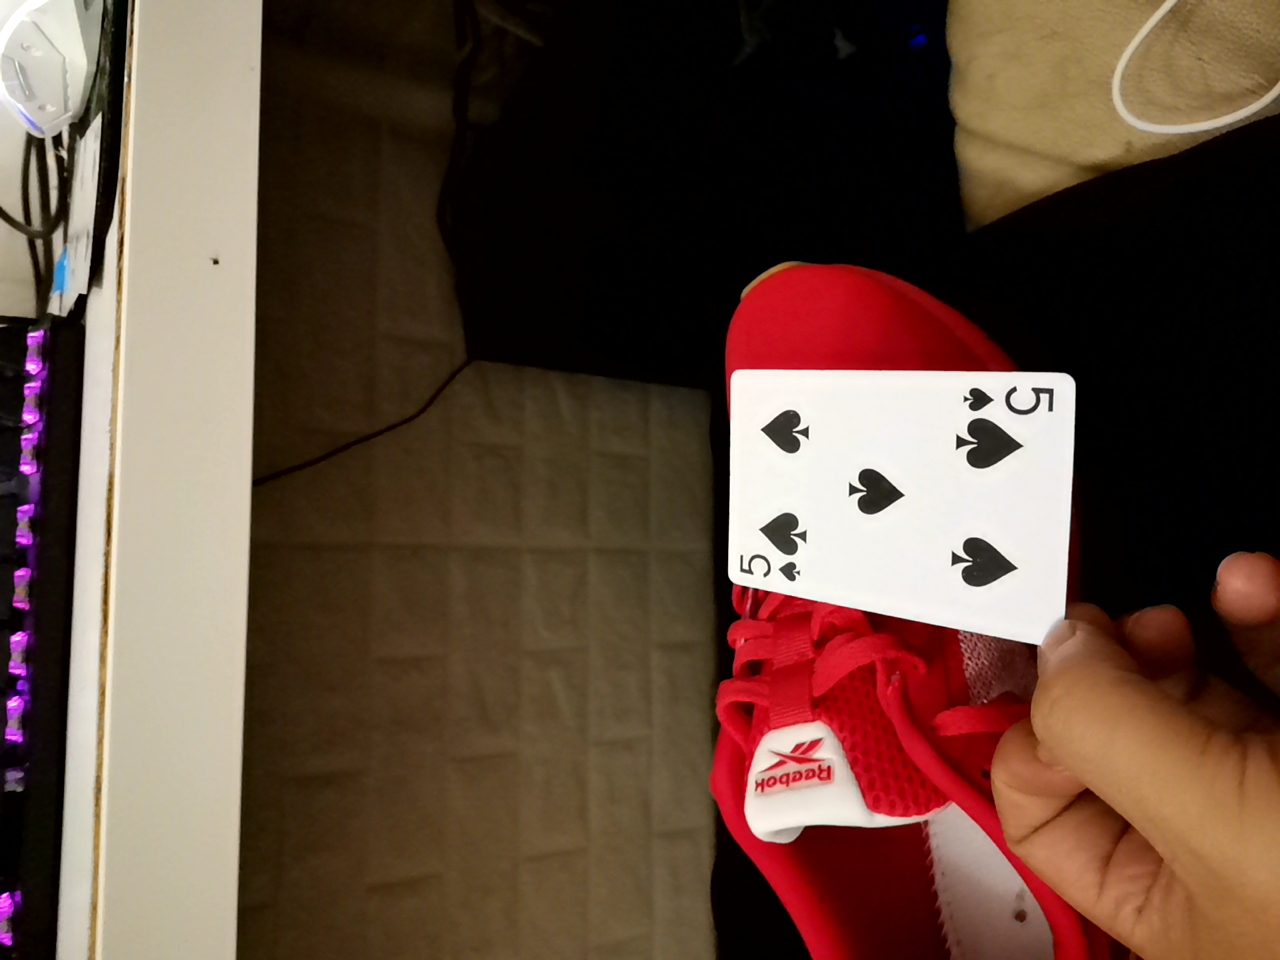ht 5: (702, 364, 1098, 648)
